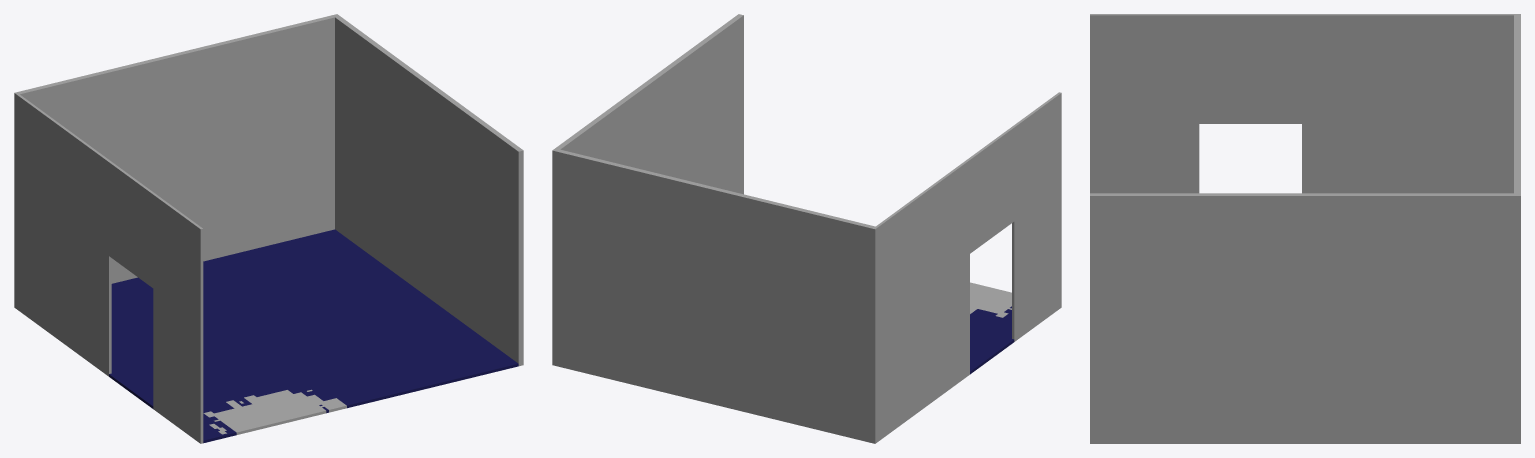
File: 4x2 second (1)-6.obj
3 renders of one model, left to right at view 1: azimuth 30°, elevation 25°; view 2: azimuth 150°, elevation 25°; view 3: azimuth 270°, elevation 25°, orthographic. The views are drawn at different scales.
Parts seen in each view (by area): view 1: 4x2 second (1)-6; view 2: 4x2 second (1)-6; view 3: 4x2 second (1)-6.
Boxes of the visible parts, bbox=[...] form: 4x2 second (1)-6: bbox=[14, 14, 523, 443]; 4x2 second (1)-6: bbox=[552, 14, 1061, 443]; 4x2 second (1)-6: bbox=[1090, 14, 1520, 443].
Size of the model in its own units: 126 by 80 by 126.
Materials: 1 (1 with a texture image).
